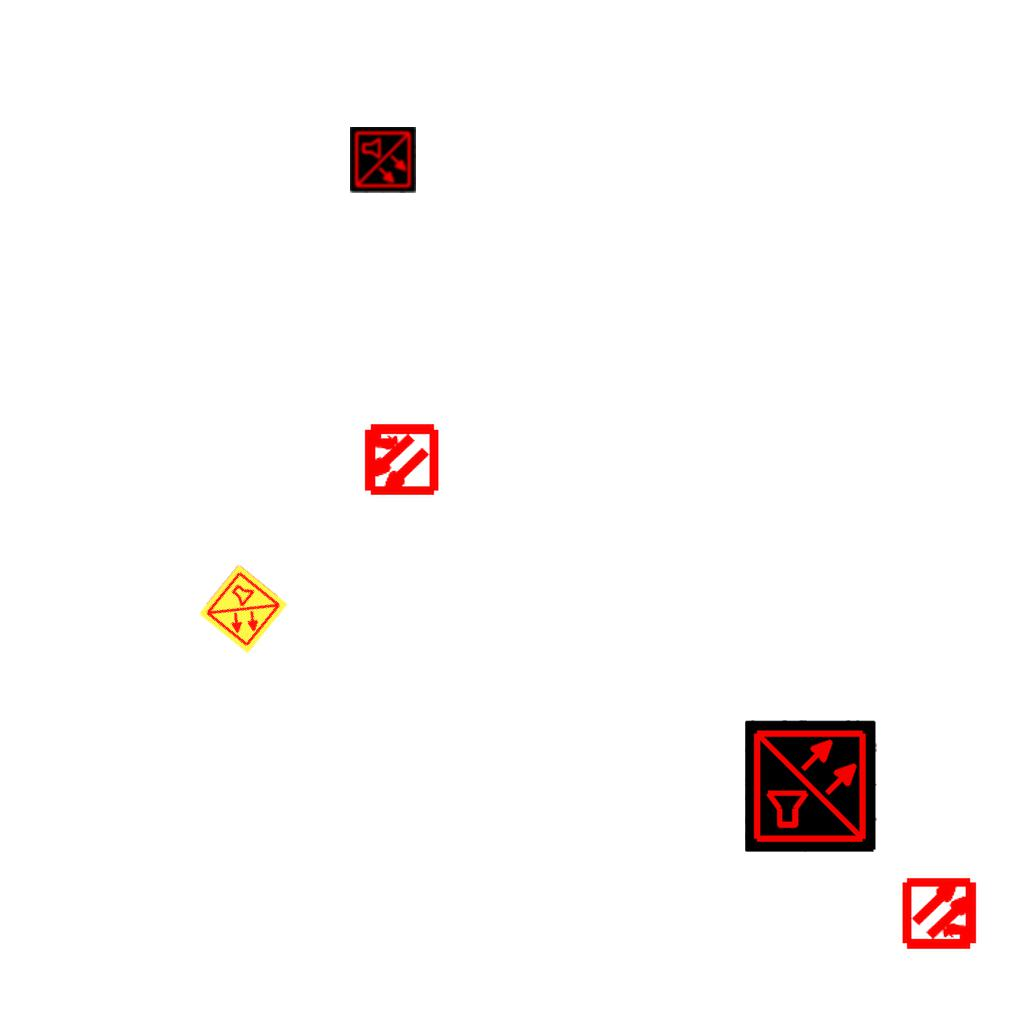OKW_Multisensormelder_(Kombination_optischer_Rauch-Kahlenmonoxid_Waerme-Melder): (745, 720, 877, 852), (196, 562, 290, 656), (350, 127, 416, 193)
OT_Multisensormelder_(Kombination_RMO_WMD): (885, 857, 998, 970), (343, 403, 456, 516)
